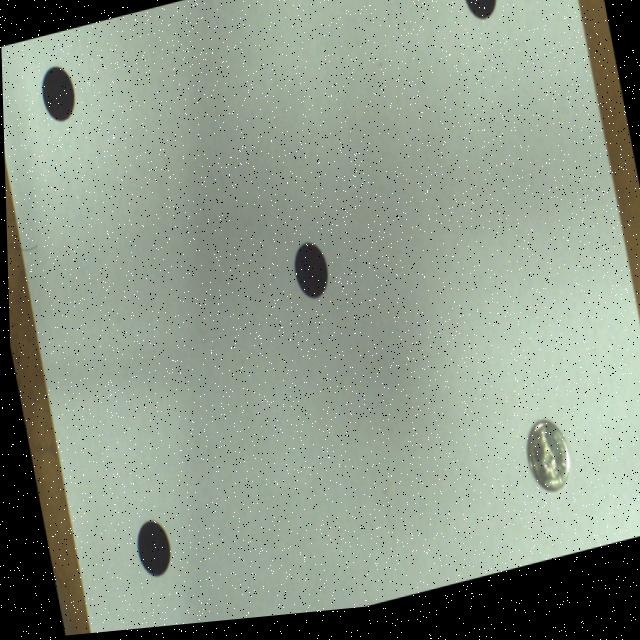space: (292, 248, 326, 304), (134, 523, 167, 579), (42, 67, 74, 123), (464, 0, 496, 29)
tail1bath: (524, 432, 567, 502)
